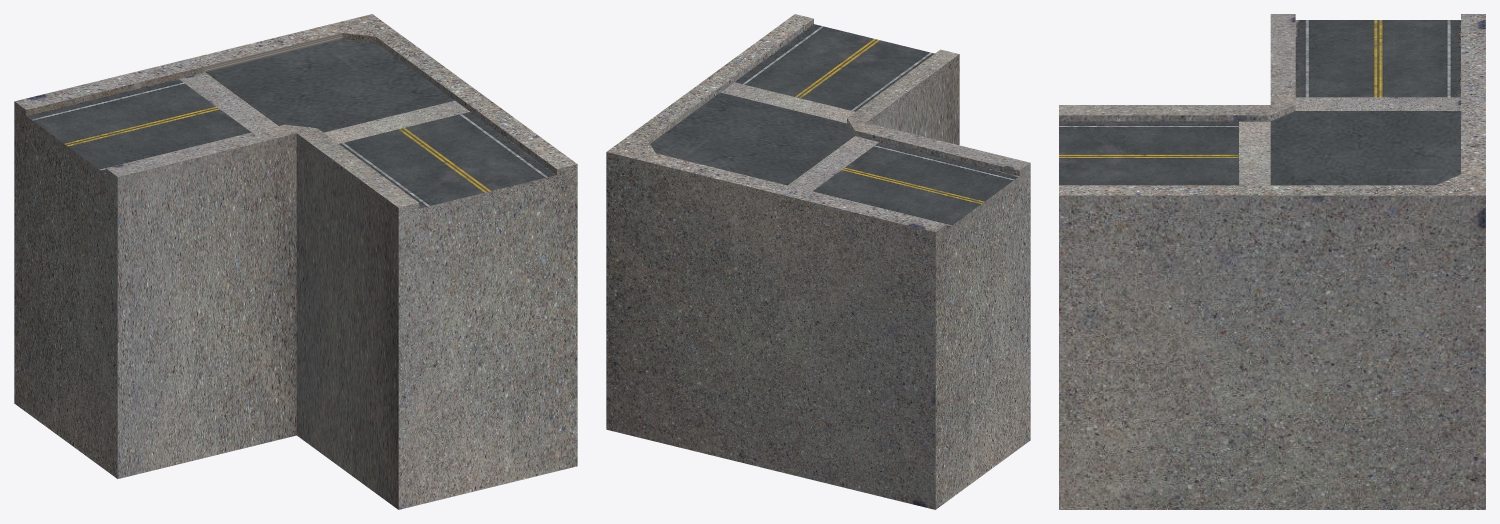
The model's file is rightTurn-90Degree.fbx.
3 views of the same model, side by side, from view 1: azimuth 30°, elevation 25°; view 2: azimuth 150°, elevation 25°; view 3: azimuth 270°, elevation 25° (orthographic). The views are drawn at different scales.
Visible parts, largest first — view 1: Plane.019; view 2: Plane.019; view 3: Plane.019.
Boxes of the visible parts, x1=… form: Plane.019: x1=14, y1=14, x2=577, y2=509; Plane.019: x1=606, y1=14, x2=1030, y2=509; Plane.019: x1=1059, y1=14, x2=1485, y2=509.
Size of the model in its own units: 2600 by 2096 by 2580.
